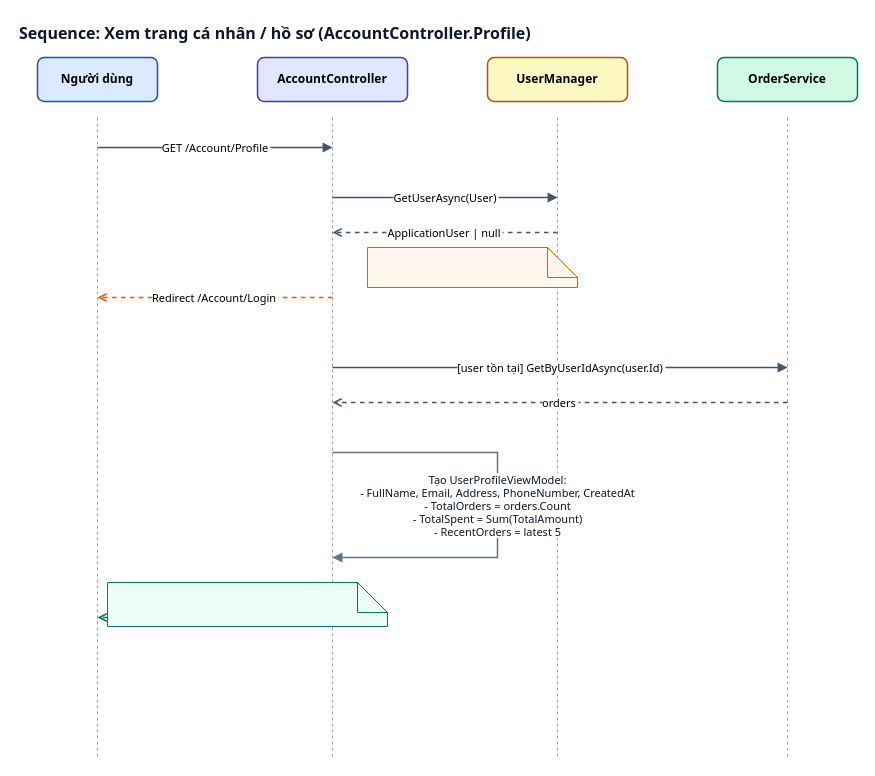
Some shapes in this 875 by 776 pixel diagram are drawn without their labels. The shapes that lost their labels are listed below. From the top down, each one's centre as x and y in pixels, then its label:
pixel 472 267: [user == null] RedirectToAction(Login)
pixel 247 604: View hiển thị thông tin hồ sơ + thống kê đơn hàng + 5 đơn gần nhất
